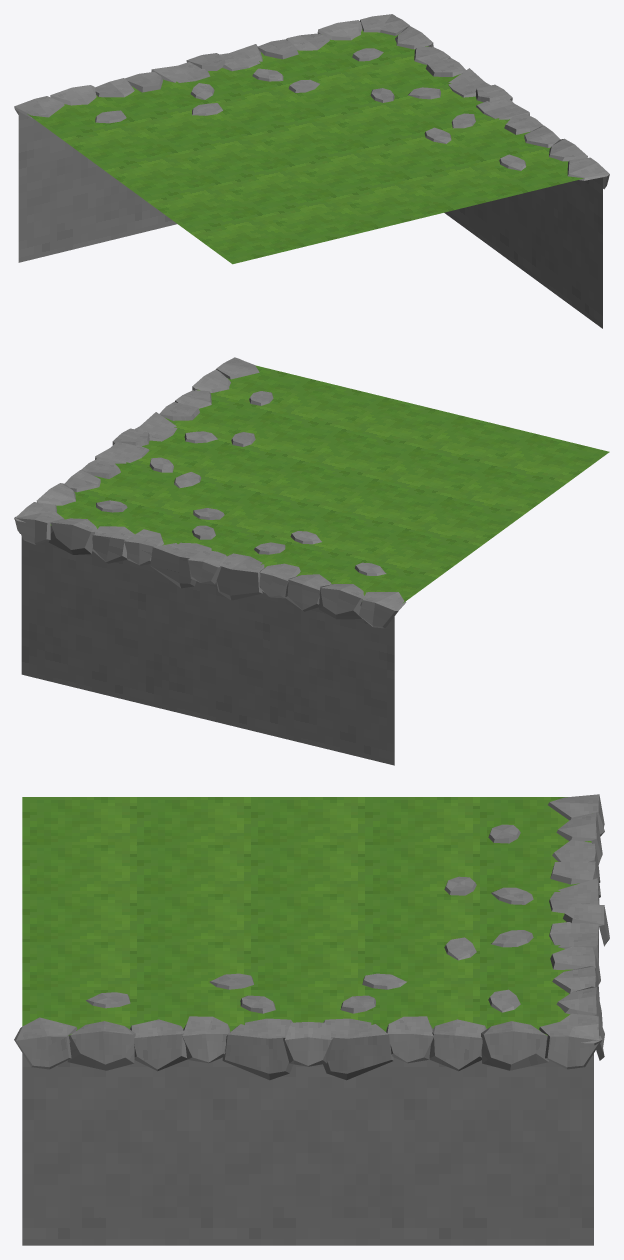
Rendered from TileCliffGrassConvex.fbx.
The picture shows the model from 3 angles, top to bottom: view 1: azimuth 30°, elevation 25°; view 2: azimuth 150°, elevation 25°; view 3: azimuth 270°, elevation 25°; orthographic projection. The views are drawn at different scales.
Parts seen in each view (by area): view 1: grass_cliff_convex; view 2: grass_cliff_convex; view 3: grass_cliff_convex.
Part boxes in pixels (box(x1,y1,x2,y2)): grass_cliff_convex: box(14, 14, 609, 328); grass_cliff_convex: box(14, 357, 609, 765); grass_cliff_convex: box(14, 794, 609, 1245).
Size of the model in its own units: 5.21 by 2.09 by 5.21.
